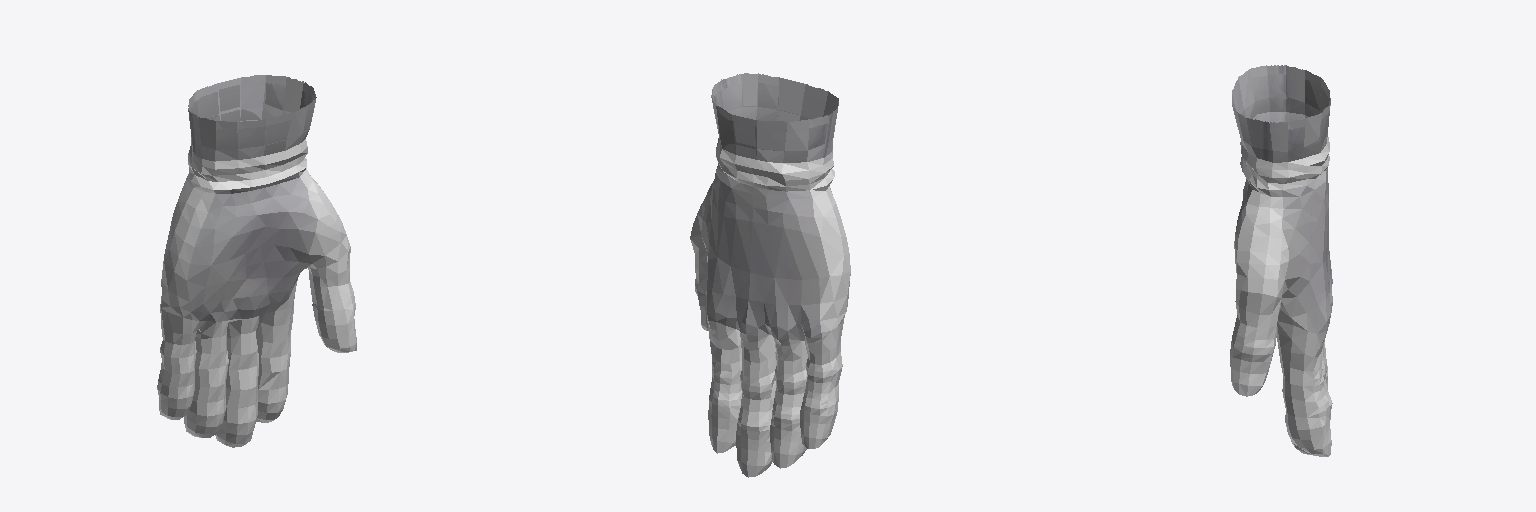
3 views of the same model, side by side, from view 1: azimuth 30°, elevation 25°; view 2: azimuth 150°, elevation 25°; view 3: azimuth 270°, elevation 25° (orthographic).
Visible parts, largest first — view 1: polygon0, polygon2, polygon3, polygon4; view 2: polygon0, polygon2, polygon3, polygon4; view 3: polygon0, polygon2, polygon3, polygon4.
Boxes of the visible parts, x1=… form: polygon0: x1=157, y1=139, x2=356, y2=447; polygon2: x1=186, y1=172, x2=317, y2=321; polygon3: x1=188, y1=75, x2=316, y2=161; polygon4: x1=189, y1=83, x2=313, y2=155; polygon0: x1=690, y1=138, x2=850, y2=477; polygon2: x1=701, y1=168, x2=829, y2=342; polygon3: x1=711, y1=73, x2=838, y2=162; polygon4: x1=714, y1=83, x2=827, y2=162; polygon0: x1=1230, y1=137, x2=1332, y2=456; polygon2: x1=1236, y1=168, x2=1332, y2=333; polygon3: x1=1232, y1=65, x2=1330, y2=162; polygon4: x1=1239, y1=74, x2=1329, y2=161.
Bounding box in the file's own units: 31.28 × 72.09 × 17.38.
Materials: 3 (2 with a texture image).